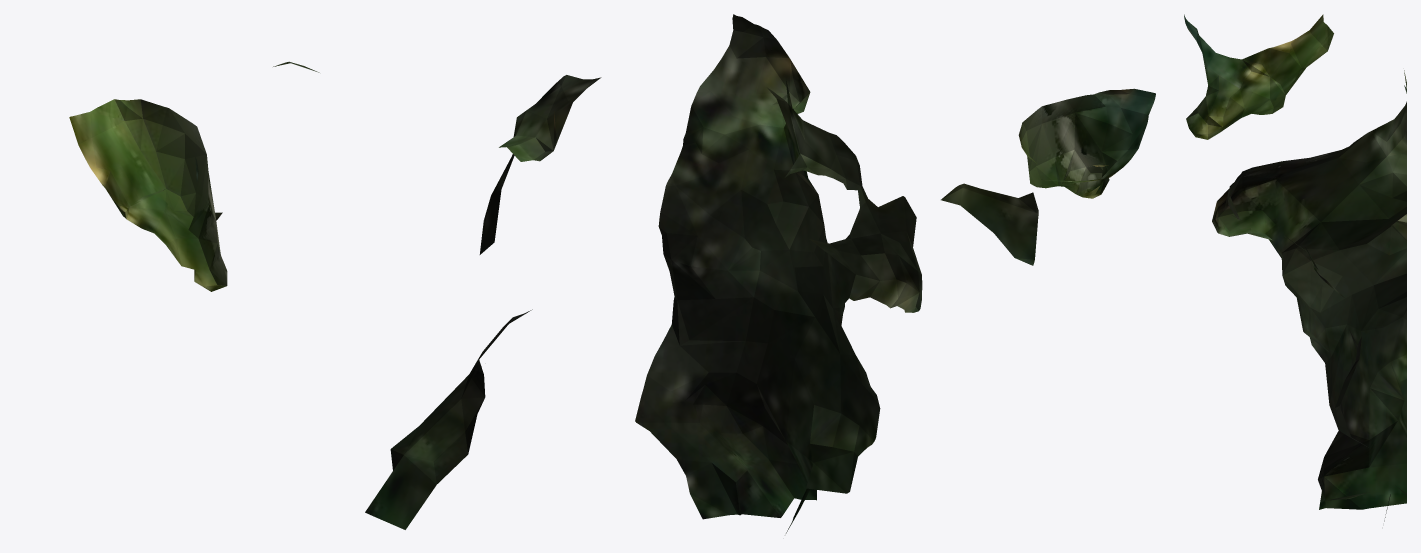
3 renders of one model, left to right at view 1: azimuth 30°, elevation 25°; view 2: azimuth 150°, elevation 25°; view 3: azimuth 270°, elevation 25°, orthographic. The views are drawn at different scales.
Bounding box in the file's own units: 0.8373 × 0.8374 × 0.447.
2 materials, 2 textured.
